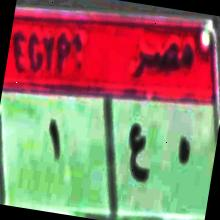1: (39, 112, 71, 171)
ain: (121, 115, 158, 196)
haa: (170, 127, 199, 178)
